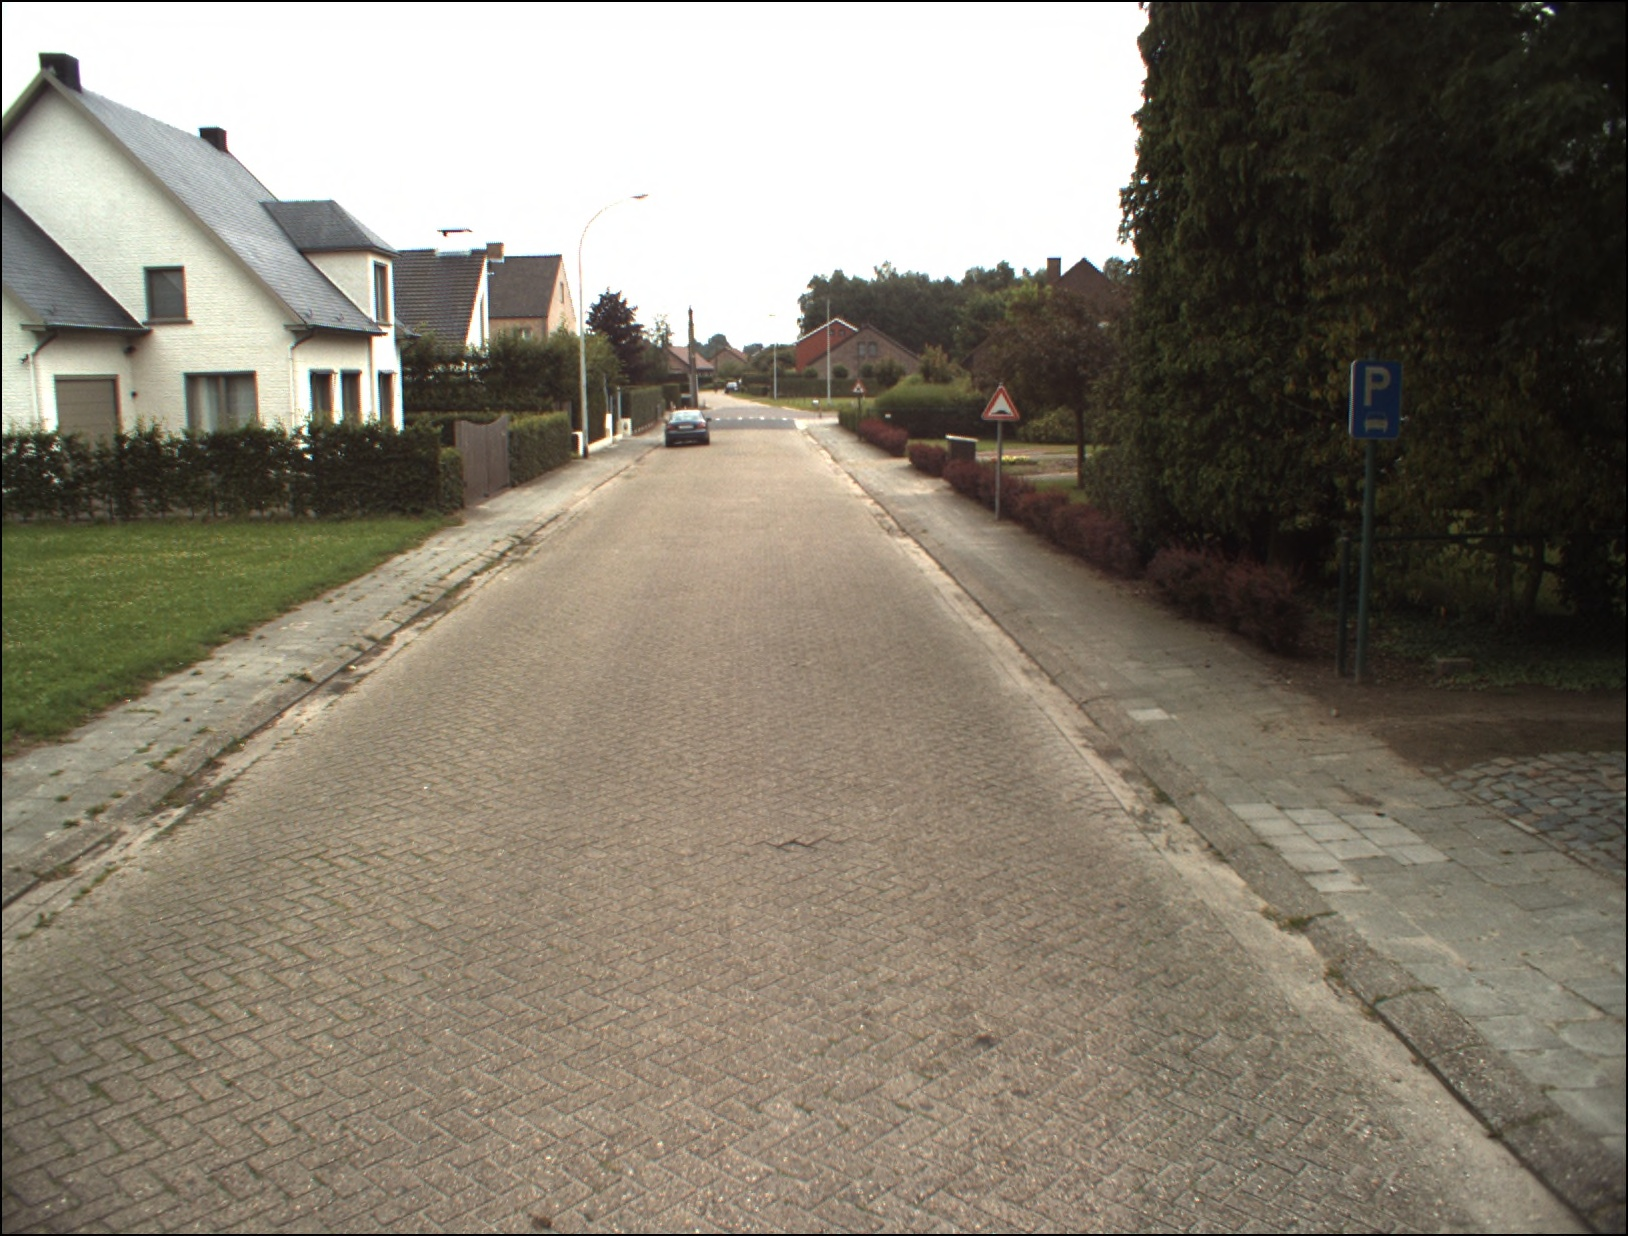parking: (1348, 365, 1402, 441)
speedbump: (979, 384, 1020, 419)
